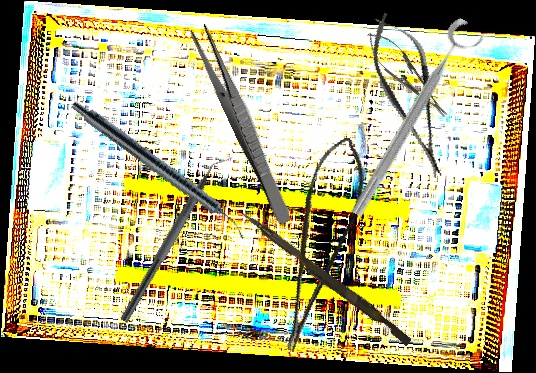Chopper: (119, 147, 235, 330)
Dressing Forceps: (187, 22, 299, 227)
Fixation Ring: (345, 15, 489, 227)
Handpiece: (65, 97, 254, 241)
Micro Scissor: (247, 130, 383, 355), (358, 5, 462, 186)
Needle Holder: (358, 24, 456, 126)
Pusher: (236, 210, 416, 347)
